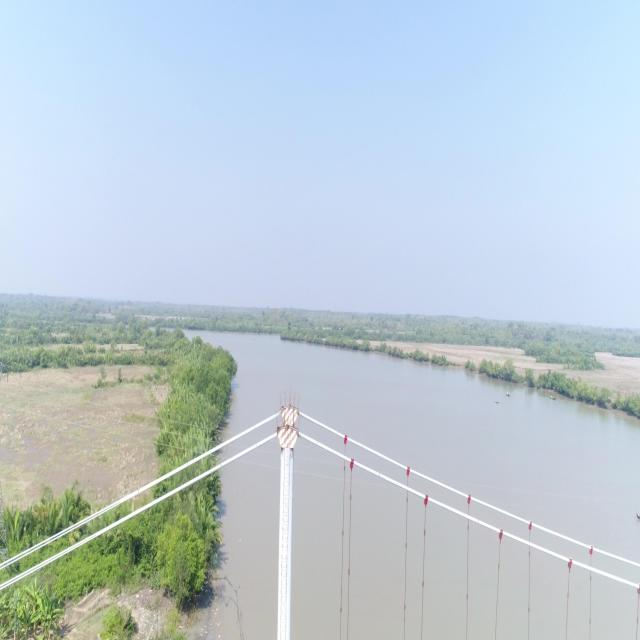crack: (220, 463, 222, 468), (316, 441, 318, 445), (256, 444, 258, 447), (379, 473, 380, 478), (138, 489, 139, 494), (254, 425, 255, 429), (362, 445, 363, 448), (478, 520, 479, 523), (188, 462, 188, 466)
